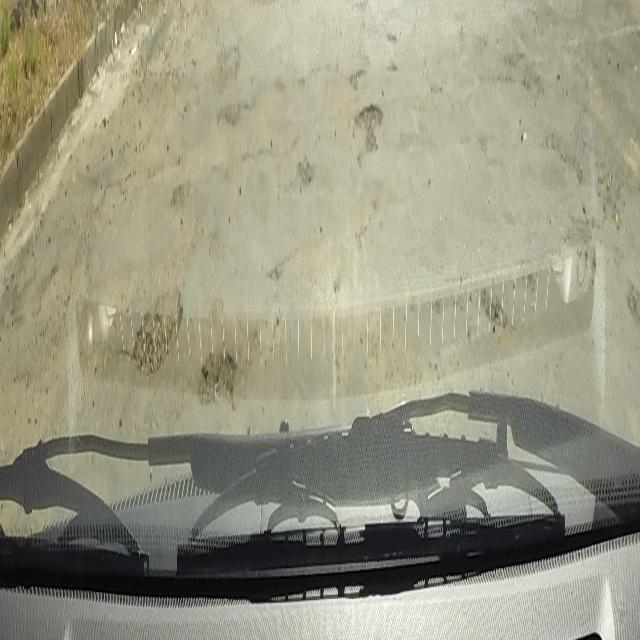pothole: (132, 284, 184, 385), (198, 338, 238, 411), (477, 274, 508, 332), (355, 98, 384, 154), (170, 172, 192, 212)
